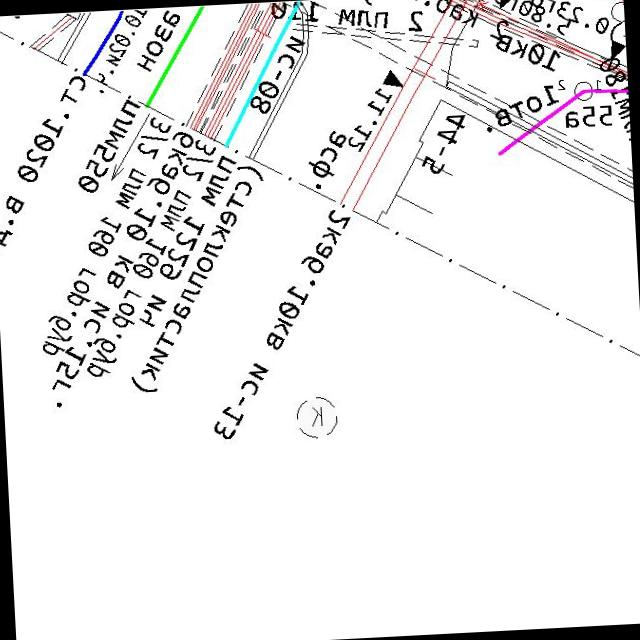bushes: (294, 394, 340, 440)
mark: (380, 67, 404, 90), (608, 38, 626, 64), (497, 0, 518, 9)
